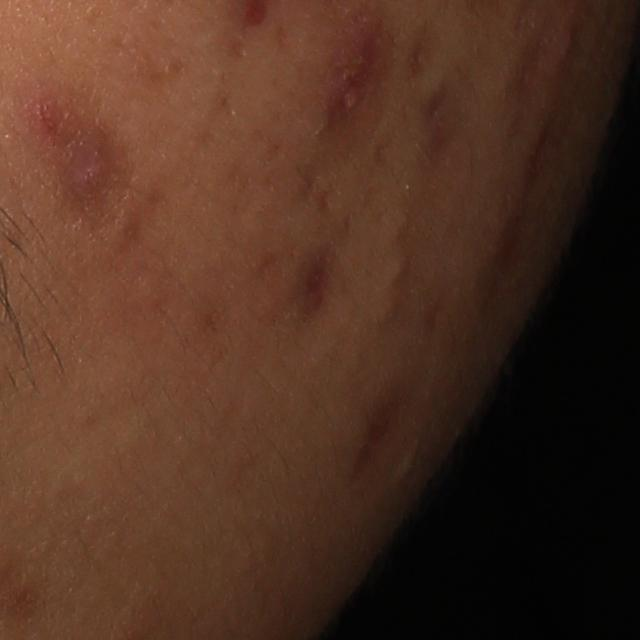comedo: (386, 253, 410, 287)
papule: (318, 28, 387, 126), (25, 88, 70, 149), (546, 20, 580, 76)
